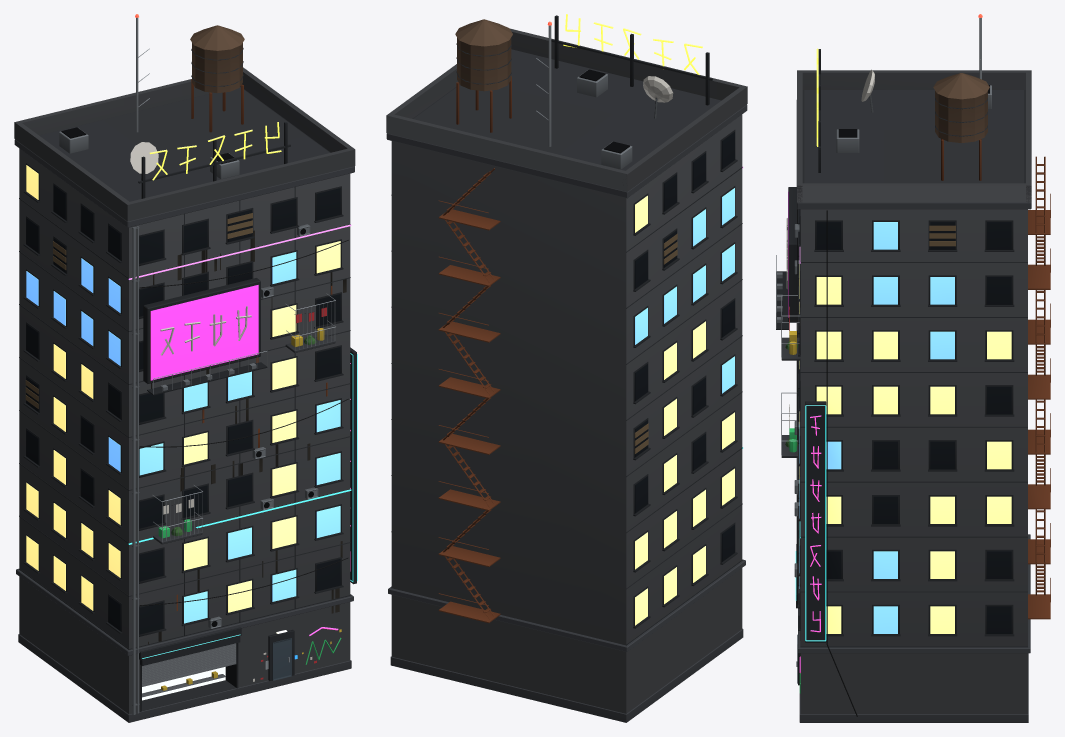
File: cp_tower.glb
3 views of the same model, side by side, from view 1: azimuth 30°, elevation 25°; view 2: azimuth 150°, elevation 25°; view 3: azimuth 270°, elevation 25° (orthographic). The views are drawn at different scales.
Visible parts, largest first — view 1: cp_tower, part_billboard, part_shutter, part_balcony_2, part_balcony_1; view 2: cp_tower; view 3: cp_tower, part_billboard, part_balcony_2, part_balcony_1.
Boxes of the visible parts, x1,y1,x2,y2 form: cp_tower: (14, 14, 357, 722); part_billboard: (143, 278, 267, 395); part_shutter: (142, 643, 236, 686); part_balcony_2: (285, 293, 335, 352); part_balcony_1: (152, 485, 202, 544); cp_tower: (386, 14, 747, 722); cp_tower: (794, 14, 1050, 722); part_billboard: (776, 187, 797, 329); part_balcony_2: (781, 295, 800, 360); part_balcony_1: (781, 392, 797, 457).
Bounding box in the file's own units: 14.81 × 37.58 × 14.52.
